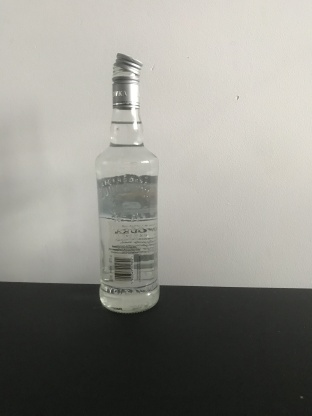nakretka: (110, 50, 144, 110)
